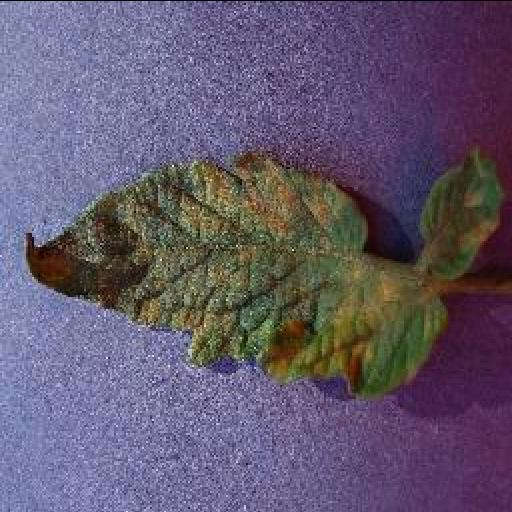disease_tomato: (21, 144, 507, 393)
